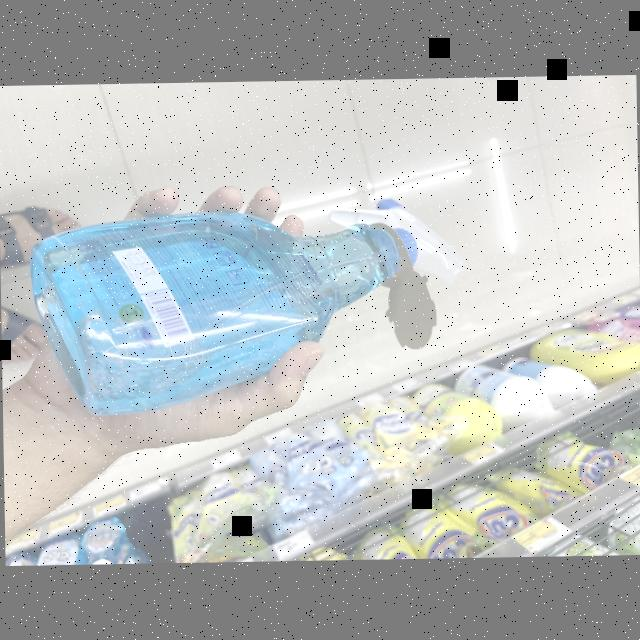chemical_plastic_bottle: (25, 185, 466, 416)
